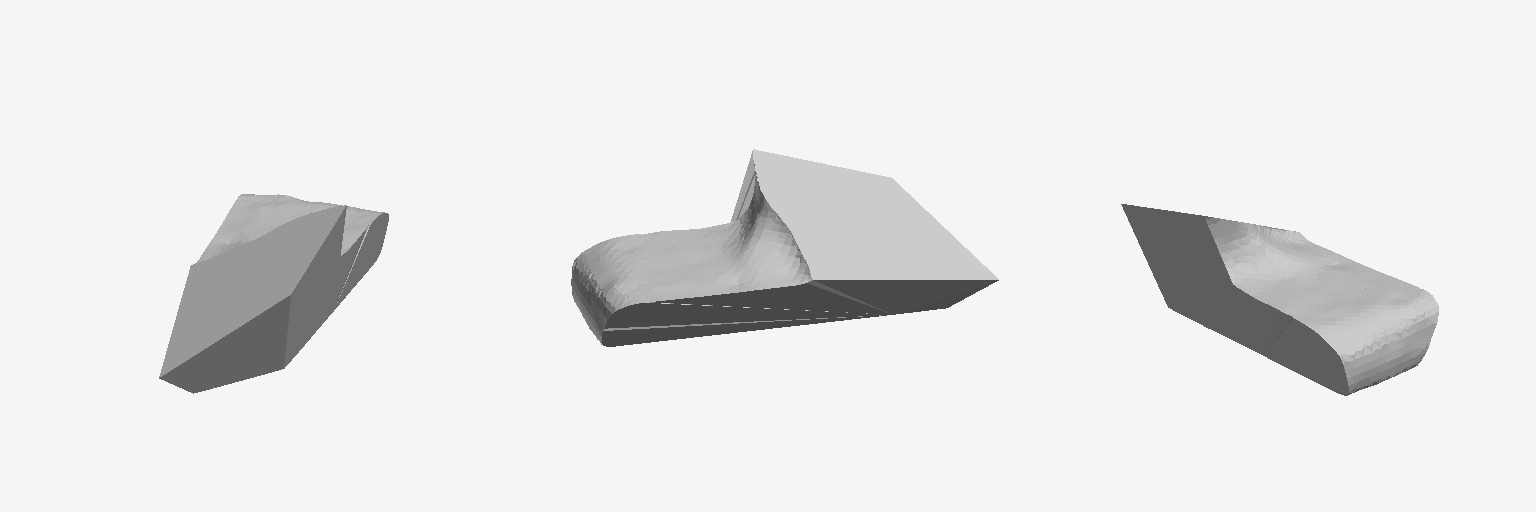
Rendered from low_cell_012.obj.
The picture shows the model from 3 angles: view 1: azimuth 30°, elevation 25°; view 2: azimuth 150°, elevation 25°; view 3: azimuth 270°, elevation 25°; orthographic projection.
Visible parts, largest first — view 1: low_cell.012_low_cell.011; view 2: low_cell.012_low_cell.011; view 3: low_cell.012_low_cell.011.
Boxes of the visible parts, x1=… form: low_cell.012_low_cell.011: x1=159, y1=194, x2=388, y2=393; low_cell.012_low_cell.011: x1=571, y1=149, x2=998, y2=346; low_cell.012_low_cell.011: x1=1121, y1=204, x2=1438, y2=395.
Size of the model in its own units: 0.897 by 0.3443 by 0.7526.